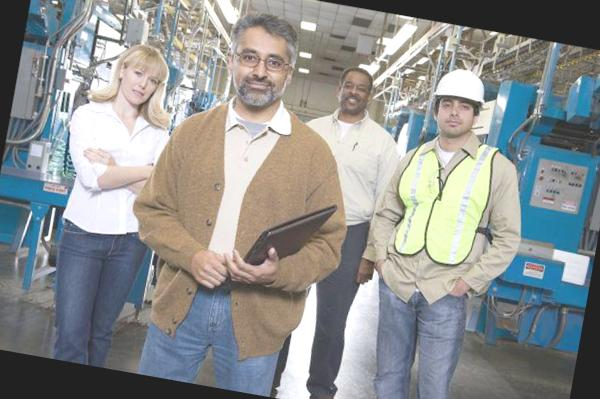no_helmet: (210, 4, 314, 116), (102, 37, 176, 117), (329, 62, 378, 118)
